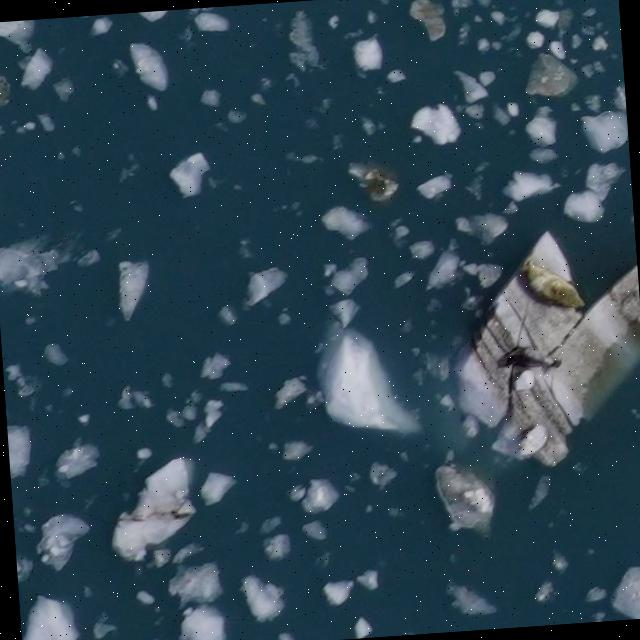seal: (524, 261, 581, 309)
